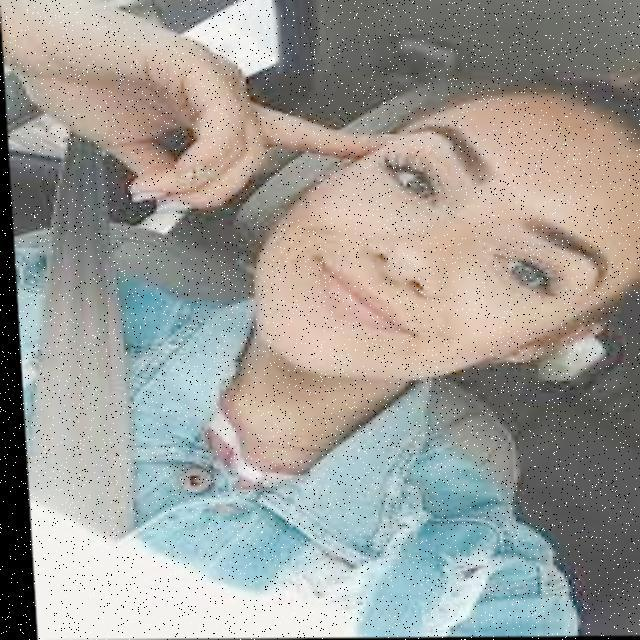seatbelt: (12, 250, 271, 549)
